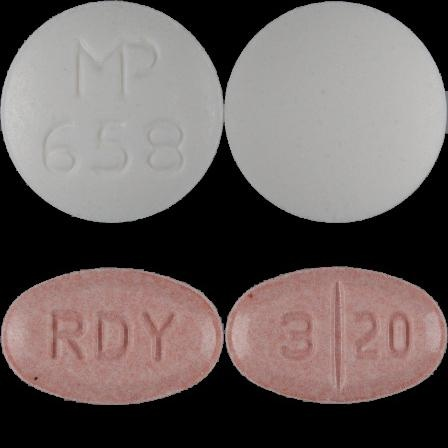35356-895: (0, 0, 224, 224)
